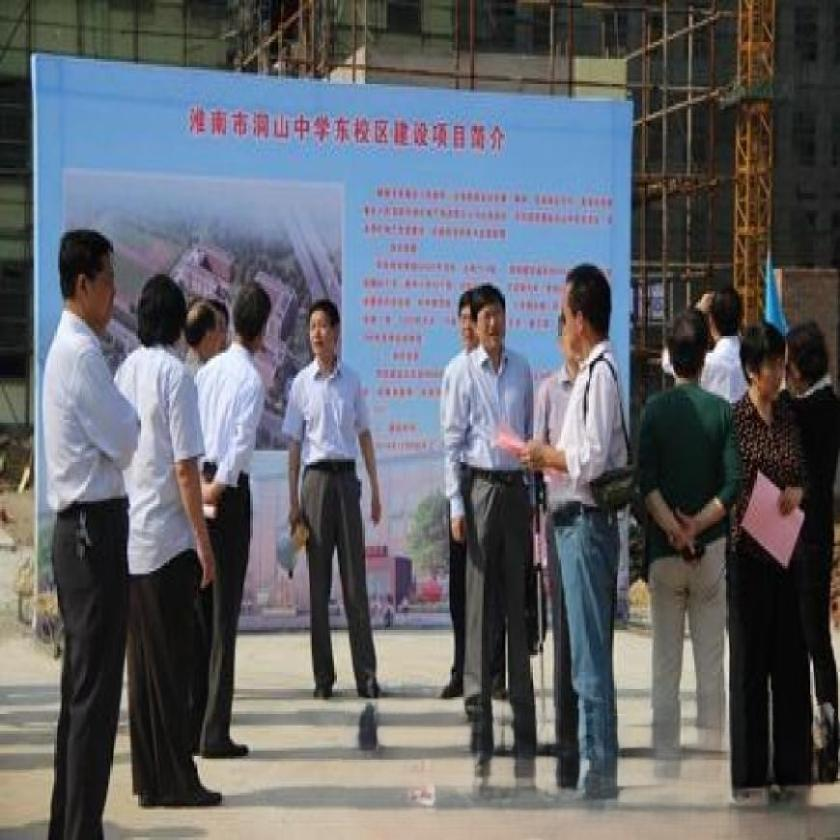Sin_casco: (53, 220, 121, 335), (560, 258, 616, 364), (470, 278, 509, 359), (748, 322, 784, 406), (305, 296, 344, 372)
